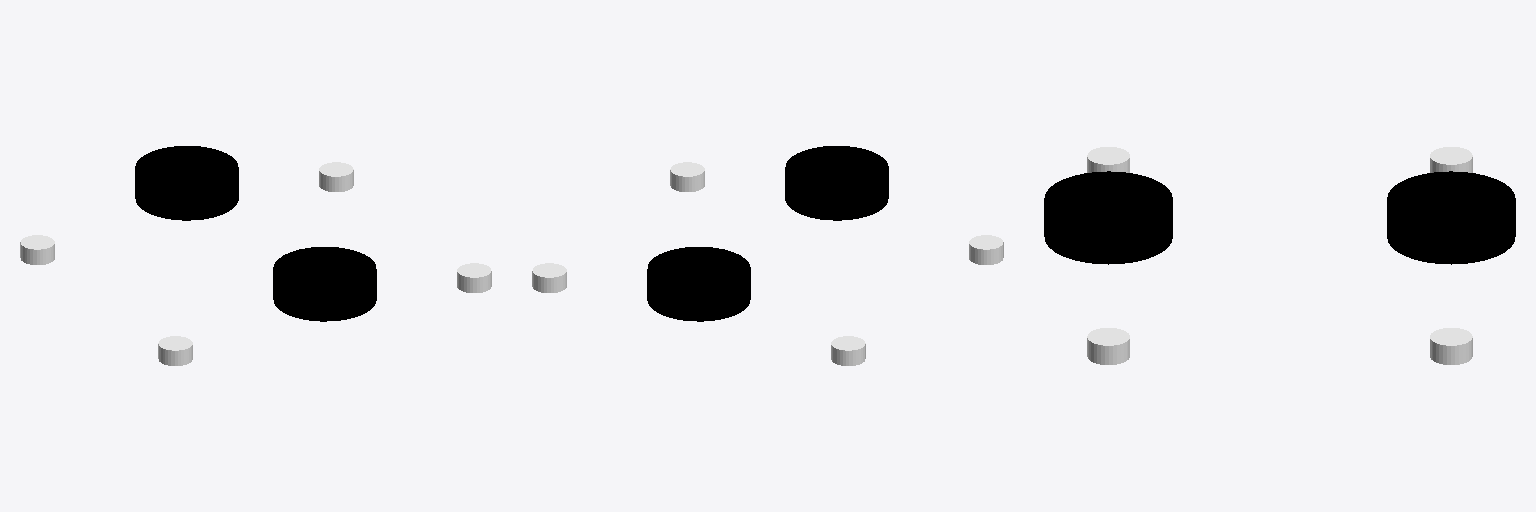
URDF robot description (tote):
<?xml version="1.0"?>
<robot name="tote">

  <link name="base_footprint"/>

  <joint name="base_footprint_joint" type="fixed">
    <parent link="base_footprint"/>
    <child link="base_link"/>
    <origin xyz="0 0 0" rpy="0 0 0"/>
  </joint>

  <link name="base_link">

  </link>

  <joint name="left_wheel_joint" type="continuous">
    <parent link="base_link"/>
    <child link="left_wheel_link"/>
    <origin xyz="0 -0.4 -0.102" rpy="0 0 0"/> <axis xyz="0 1 0"/> </joint>
  <link name="left_wheel_link">
    <visual>
      <geometry> <mesh filename="wheel.dae"/> </geometry>
    </visual>
    <collision>
      <geometry> <mesh filename="wheel.dae"/> </geometry>
    </collision>
  </link>

  <joint name="right_wheel_joint" type="continuous">
    <parent link="base_link"/>
    <child link="right_wheel_link"/>
    <origin xyz="0 0.4 -0.102" rpy="0 0 0"/> <axis xyz="0 1 0"/>
  </joint>
  <link name="right_wheel_link">
    <visual>
      <geometry> <mesh filename="wheel.dae"/> </geometry>
    </visual>
    <collision>
      <geometry> <mesh filename="wheel.dae"/> </geometry>
    </collision>
  </link>

  <joint name="cast_wheel_joint1" type="fixed">
    <parent link="base_link"/>
    <child link="cast_wheel_link1"/>
    <origin xyz="0.5 0.4 -0.2" rpy="0 0 0"/>
  </joint>
  <link name="cast_wheel_link1">
    <visual>
      <geometry> <mesh filename="cast_wheel.dae"/> </geometry>
    </visual>
    <collision>
      <geometry> <mesh filename="cast_wheel.dae"/> </geometry>
    </collision>
  </link>

  <joint name="cast_wheel_joint2" type="fixed">
    <parent link="base_link"/>
    <child link="cast_wheel_link2"/>
    <origin xyz="-0.5 0.4 -0.2" rpy="0 0 0"/>
  </joint>
  <link name="cast_wheel_link2">
    <visual>
      <geometry> <mesh filename="cast_wheel.dae"/> </geometry>
    </visual>
    <collision>
      <geometry> <mesh filename="cast_wheel.dae"/> </geometry>
    </collision>
  </link>

  <joint name="cast_wheel_joint3" type="fixed">
    <parent link="base_link"/>
    <child link="cast_wheel_link3"/>
    <origin xyz="0.5 -0.4 -0.2" rpy="0 0 0"/>
  </joint>
  <link name="cast_wheel_link3">
    <visual>
      <geometry> <mesh filename="cast_wheel.dae"/> </geometry>
    </visual>
    <collision>
      <geometry> <mesh filename="cast_wheel.dae"/> </geometry>
    </collision>
  </link>

  <joint name="cast_wheel_joint4" type="fixed">
    <parent link="base_link"/>
    <child link="cast_wheel_link4"/>
    <origin xyz="-0.5 -0.4 -0.2" rpy="0 0 0"/>
  </joint>
  <link name="cast_wheel_link4">
    <visual>
      <geometry> <mesh filename="cast_wheel.dae"/> </geometry>
    </visual>
    <collision>
      <geometry> <mesh filename="cast_wheel.dae"/> </geometry>
    </collision>
  </link>

  <joint name="mast_joint" type="fixed">
    <parent link="base_link"/>
    <child link="mast_link"/>
    <origin xyz="0 0 0.58" rpy="0 0 0"/>
  </joint>
  <link name="mast_link">


    <inertial>
      <mass value="200.0"/> 
      <origin xyz="0 0 0.3" rpy="0 0 0"/>
      <inertia ixx="20.0" ixy="0.0" ixz="0.0" iyy="20.0" iyz="0.0" izz="5.0"/>
    </inertial>
  </link>

  <joint name="lift_z_joint" type="prismatic">
    <parent link="mast_link"/>
    <child link="lift_shuttle_link"/>
    <origin xyz="-0.05 0 0.2" rpy="0 0 0"/>
    <axis xyz="0 0 1"/> <limit lower="0.0" upper="2.5" effort="500" velocity="0.6"/>
  </joint>

  <link name="lift_shuttle_link">


  </link>

  <joint name="lift_rotation_joint" type="revolute">
    <parent link="lift_shuttle_link"/>
    <child link="shuttle_rotator_link"/>
    <origin xyz="0.4 0 0.04" rpy="0 0 0"/> <axis xyz="0 0 1"/> <limit lower="-1.5708" upper="1.5708" effort="100" velocity="1.0"/> </joint>

  <link name="shuttle_rotator_link">


  </link>

  <joint name="fork_extension_joint" type="prismatic">
    <parent link="shuttle_rotator_link"/>
    <child link="fork_arm_link"/>
    <origin xyz="0.3 0 0.1" rpy="0 0 0"/> <axis xyz="-1 0 0"/> <limit lower="0.0" upper="1.2" effort="150" velocity="0.5"/> </joint>

  <link name="fork_arm_link">
    
 
  </link>

  <joint name="left_claw_joint" type="revolute">
    <parent link="fork_arm_link"/>
    <child link="left_claw_link"/>
    <origin xyz="-0.68 -0.25 0" rpy="0.7854 0 0"/> <axis xyz="1 0 0"/> <limit lower="-0.8" upper="0.8" effort="50" velocity="0.1"/> </joint>

  <link name="left_claw_link">

  </link>

  <joint name="right_claw_joint" type="revolute">
    <parent link="fork_arm_link"/>
    <child link="right_claw_link"/>
    <origin xyz="-0.68 0.25 0" rpy="-0.7854 0 0"/> <axis xyz="-1 0 0"/> <limit lower="-0.8" upper="0.8" effort="50" velocity="0.1"/> </joint>

  <link name="right_claw_link">

  </link>
 
</robot>

--- Render facts (derived) ---
Views: 3 orthographic renders of the robot side by side, from view 1: azimuth 30°, elevation 25°; view 2: azimuth 150°, elevation 25°; view 3: azimuth 270°, elevation 25°.
Model tote with 14 links and 13 joints (3 revolute, 2 continuous, 2 prismatic, 6 fixed), rooted at base_footprint, posed every joint at zero.
Visible links, largest first — view 1: right_wheel_link, left_wheel_link, cast_wheel_link1, cast_wheel_link2, cast_wheel_link3, cast_wheel_link4; view 2: left_wheel_link, right_wheel_link, cast_wheel_link3, cast_wheel_link4, cast_wheel_link1, cast_wheel_link2; view 3: left_wheel_link, right_wheel_link, cast_wheel_link1, cast_wheel_link3, cast_wheel_link2, cast_wheel_link4.
Link boxes in pixels (left/top/right/bottom): right_wheel_link: left=135, top=146, right=238, bottom=220; left_wheel_link: left=273, top=247, right=376, bottom=321; cast_wheel_link1: left=319, top=162, right=353, bottom=191; cast_wheel_link2: left=20, top=235, right=54, bottom=264; cast_wheel_link3: left=457, top=263, right=491, bottom=292; cast_wheel_link4: left=158, top=336, right=192, bottom=365; left_wheel_link: left=785, top=146, right=888, bottom=220; right_wheel_link: left=647, top=247, right=750, bottom=321; cast_wheel_link3: left=670, top=162, right=704, bottom=191; cast_wheel_link4: left=969, top=235, right=1003, bottom=264; cast_wheel_link1: left=532, top=263, right=566, bottom=292; cast_wheel_link2: left=831, top=336, right=865, bottom=365; left_wheel_link: left=1044, top=171, right=1172, bottom=264; right_wheel_link: left=1387, top=171, right=1515, bottom=264; cast_wheel_link1: left=1430, top=328, right=1472, bottom=364; cast_wheel_link3: left=1087, top=328, right=1129, bottom=364; cast_wheel_link2: left=1430, top=147, right=1472, bottom=172; cast_wheel_link4: left=1087, top=147, right=1129, bottom=172.
Size in the robot's own frame: 1.1 by 1.1 by 0.173 metres.
6 mesh visuals loaded from 2 distinct referenced files (2 Collada DAE).
